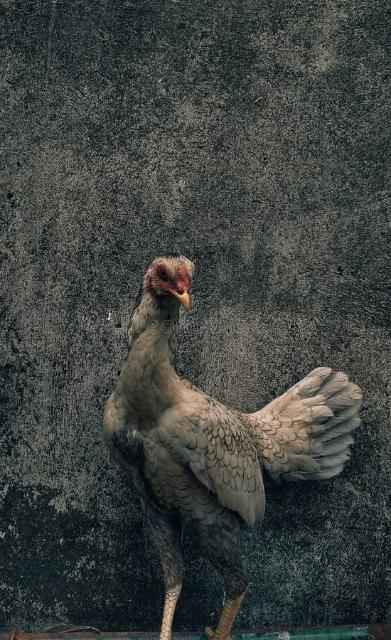Chicken: (101, 256, 366, 640)
